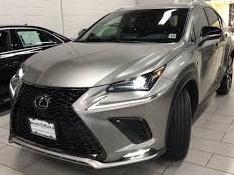SUV: (12, 5, 232, 168)
